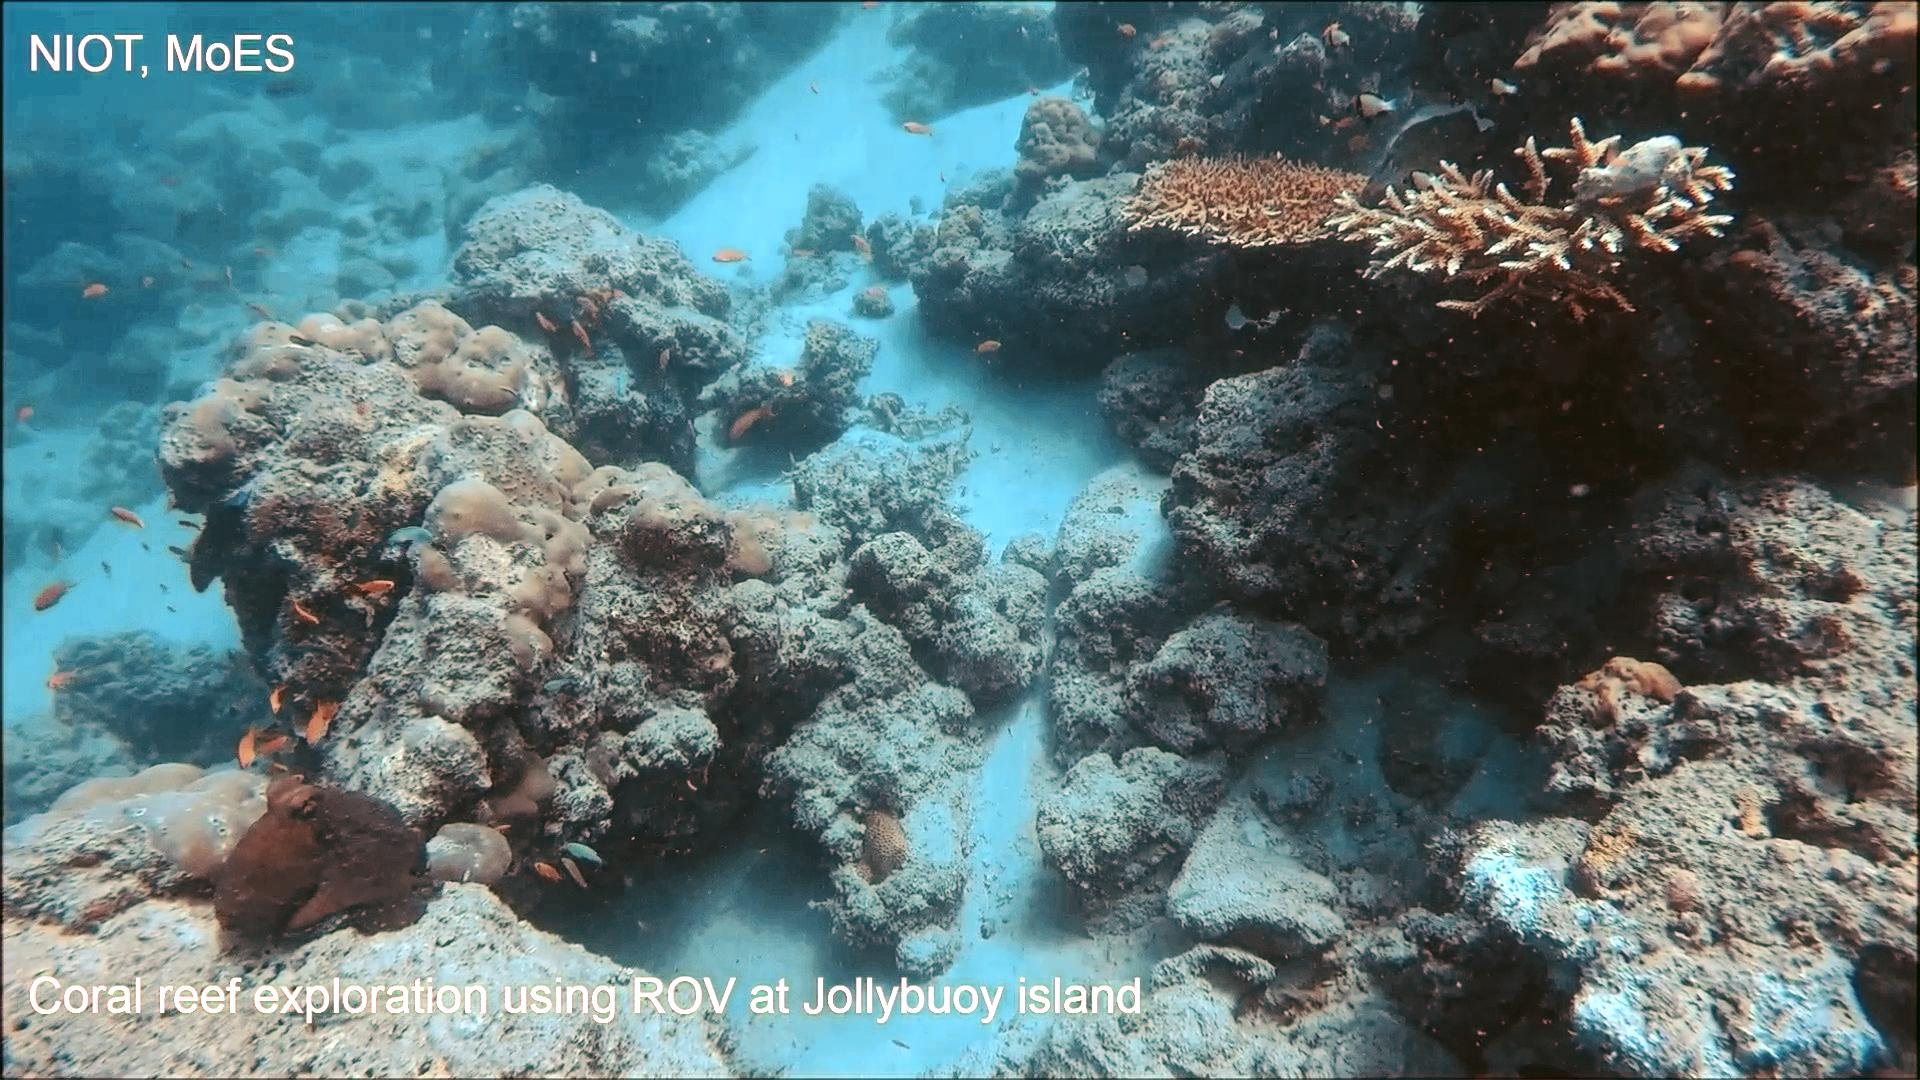Porites-Porites pukoensis: (365, 293, 636, 684)
